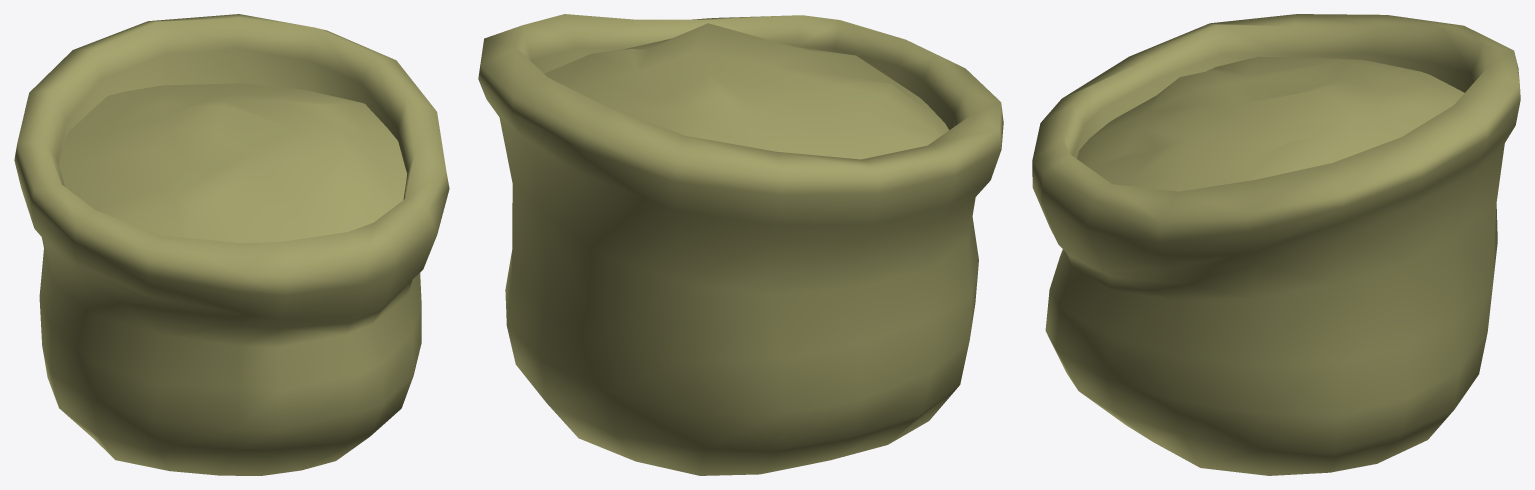
Rendered from Bag_Open_02_Lod1.fbx.
3 renders of one model, left to right at view 1: azimuth 30°, elevation 25°; view 2: azimuth 150°, elevation 25°; view 3: azimuth 270°, elevation 25°, orthographic. The views are drawn at different scales.
Parts seen in each view (by area): view 1: Bag_Open_02_Lod1; view 2: Bag_Open_02_Lod1; view 3: Bag_Open_02_Lod1.
Boxes of the visible parts, x1,y1,x2,y2 form: Bag_Open_02_Lod1: (14,14,449,475); Bag_Open_02_Lod1: (478,14,1003,475); Bag_Open_02_Lod1: (1032,14,1520,475).
Bounding box in the file's own units: 50.07 × 40.32 × 50.45.
